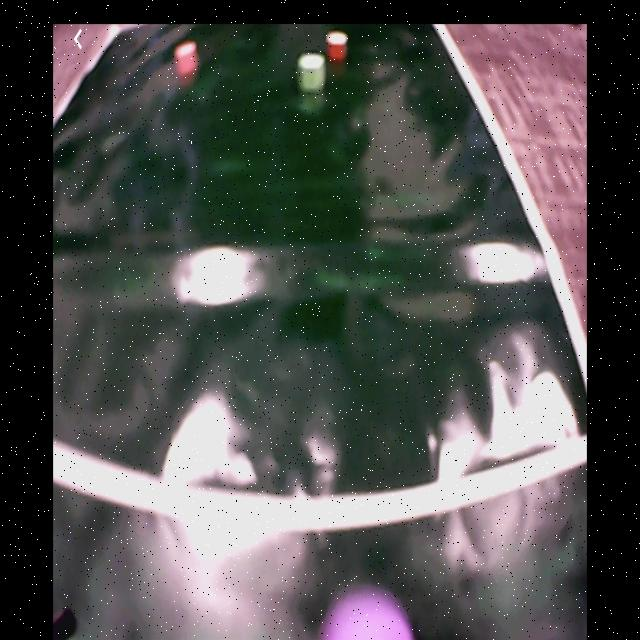ball: (319, 592, 417, 640)
